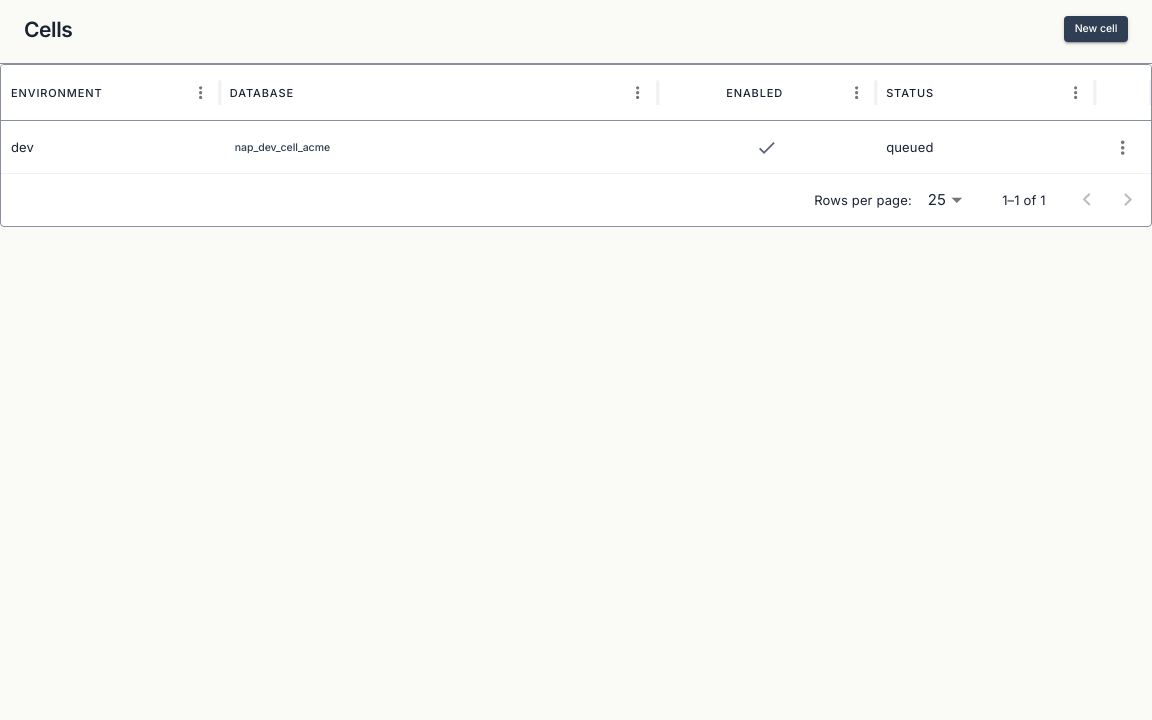
CellsPage › keeps an open detail in step with the refresh (I0003-R044)
This screenshot has width=1152, height=720.
Click the button "nap_dev_cell_acme": (282, 148) [230,135,335,162]
Wait 2000 ms
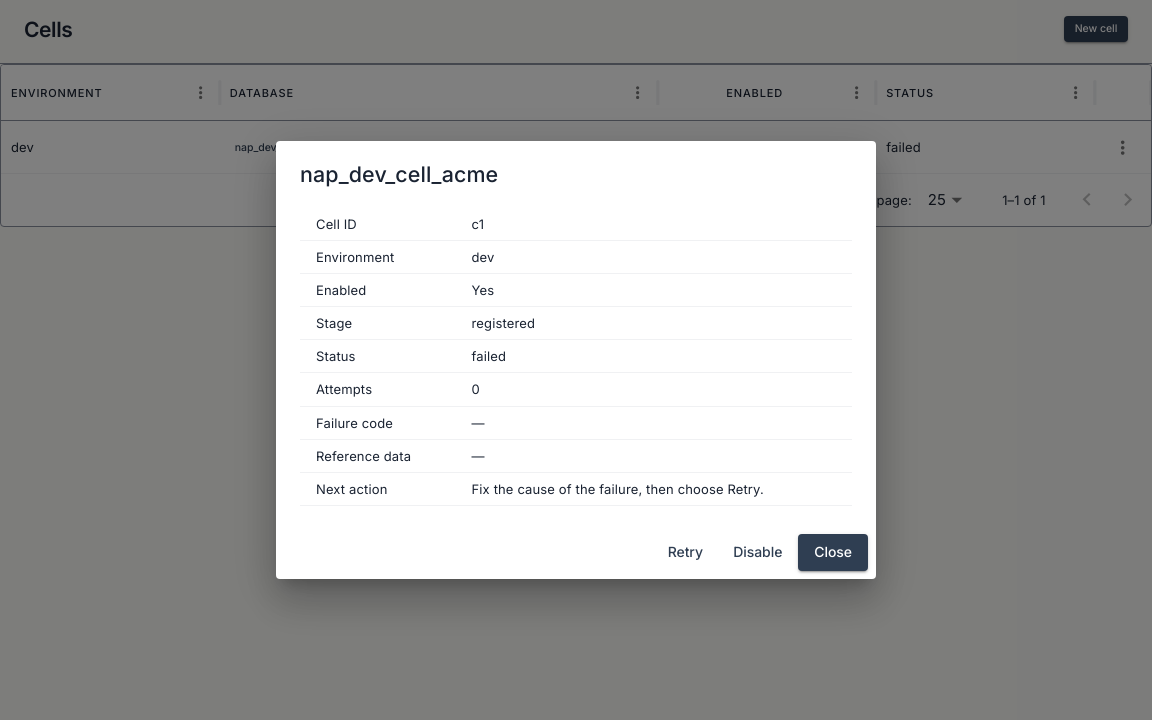
Expected: the button "Retry" is shown, [653,534,717,570]
